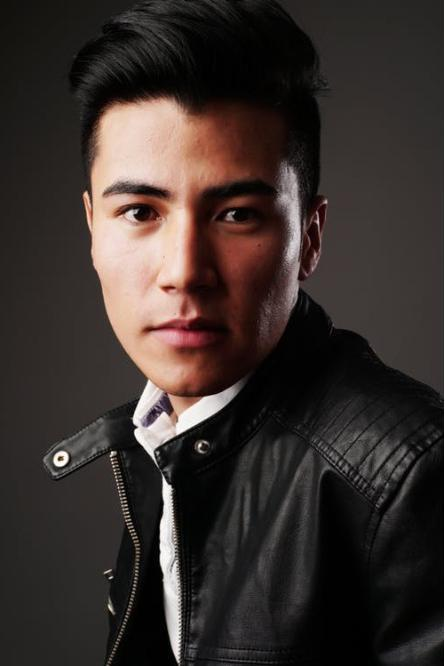face: (89, 98, 297, 394)
